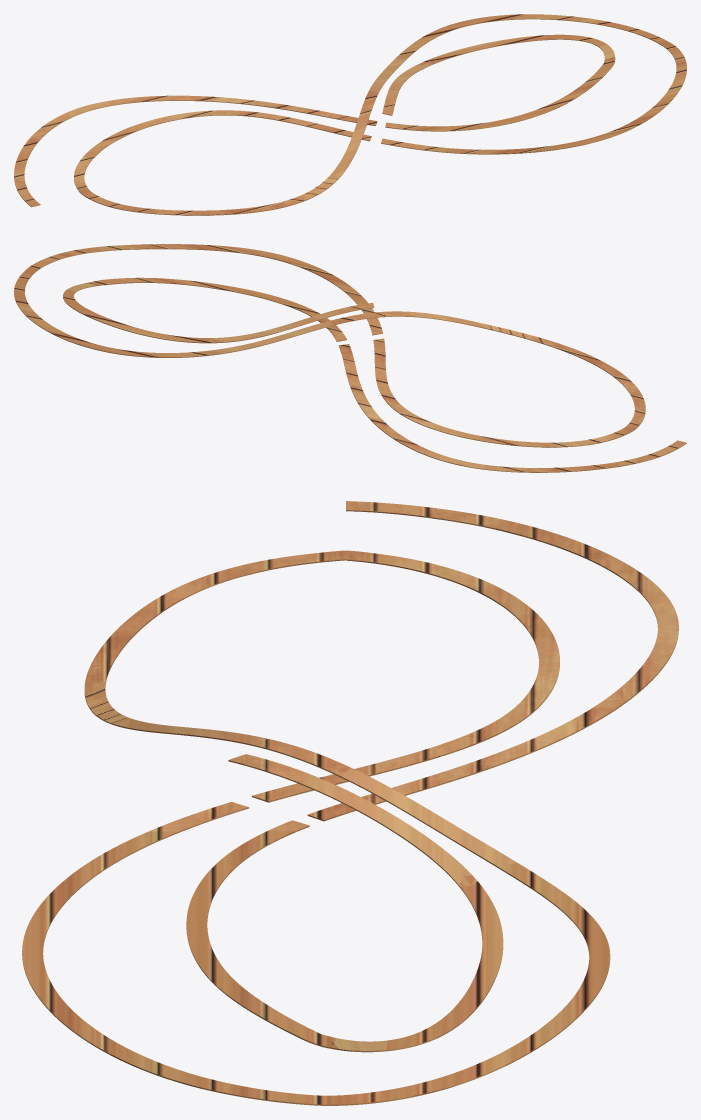
Rendered from woodRoad.gltf.
3 renders of one model, top to bottom at view 1: azimuth 30°, elevation 25°; view 2: azimuth 150°, elevation 25°; view 3: azimuth 270°, elevation 25°, orthographic. The views are drawn at different scales.
Visible parts, largest first — view 1: WOOD_PATH_01; view 2: WOOD_PATH_01; view 3: WOOD_PATH_01.
Boxes of the visible parts, bbox=[...] form: WOOD_PATH_01: bbox=[14, 14, 686, 215]; WOOD_PATH_01: bbox=[14, 244, 686, 472]; WOOD_PATH_01: bbox=[22, 501, 678, 1105].
Size of the model in its own units: 105 by 5.39 by 46.9.
Materials: 1 (1 with a texture image).
